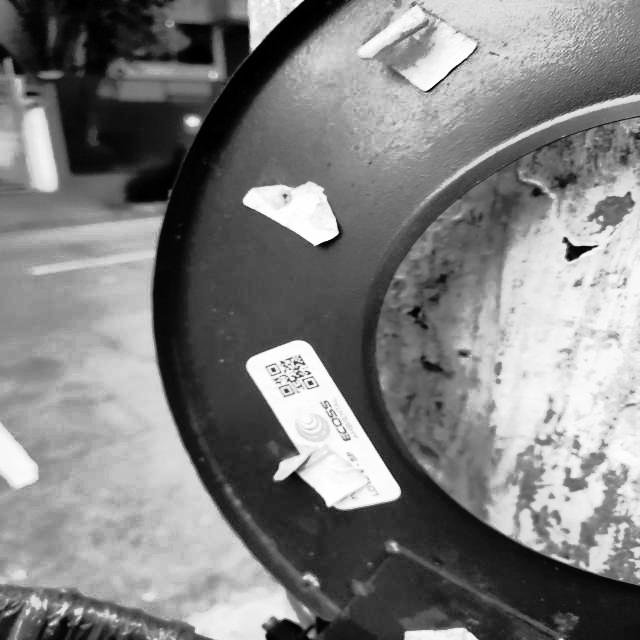qr_code: (265, 354, 319, 397)
